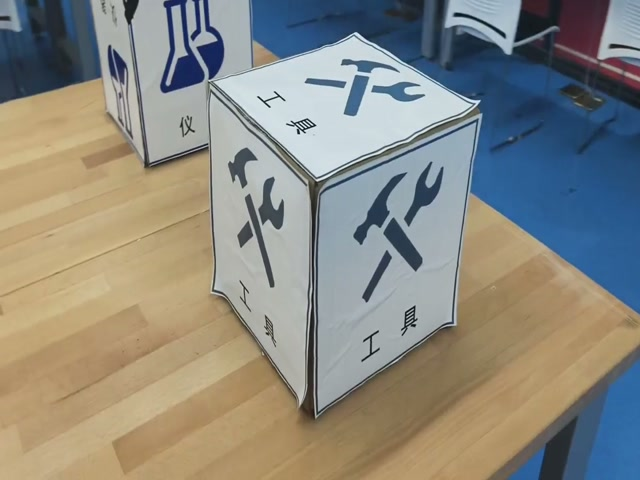Cube_tool: (210, 34, 479, 184)
